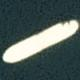ship: (0, 0, 40, 26)
